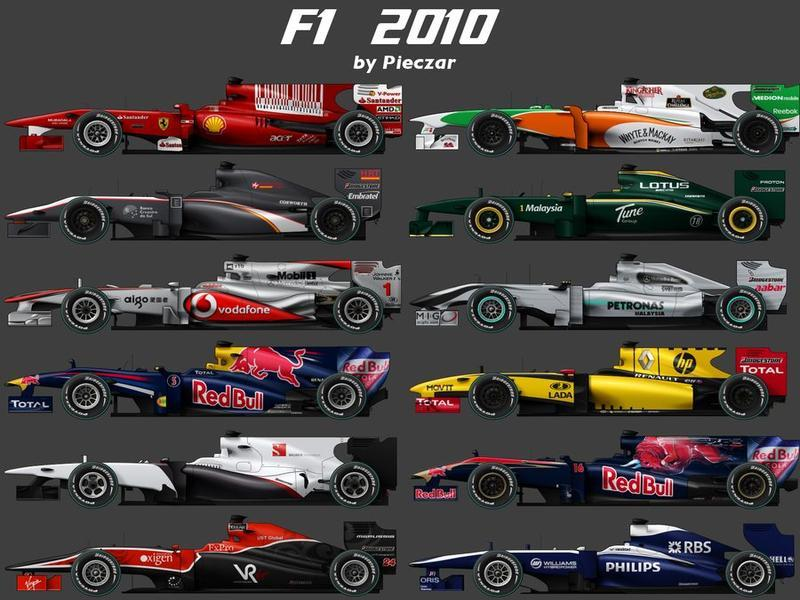f1: (411, 159, 800, 247), (417, 74, 800, 157), (3, 344, 393, 423), (6, 258, 402, 335), (401, 344, 797, 420), (47, 73, 399, 157), (410, 257, 792, 334), (14, 162, 386, 241), (29, 518, 403, 595), (422, 434, 800, 508), (23, 444, 411, 511), (415, 522, 790, 591)
